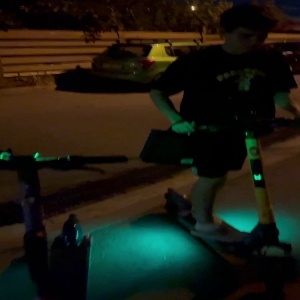human on a scooter: (138, 1, 300, 293)
